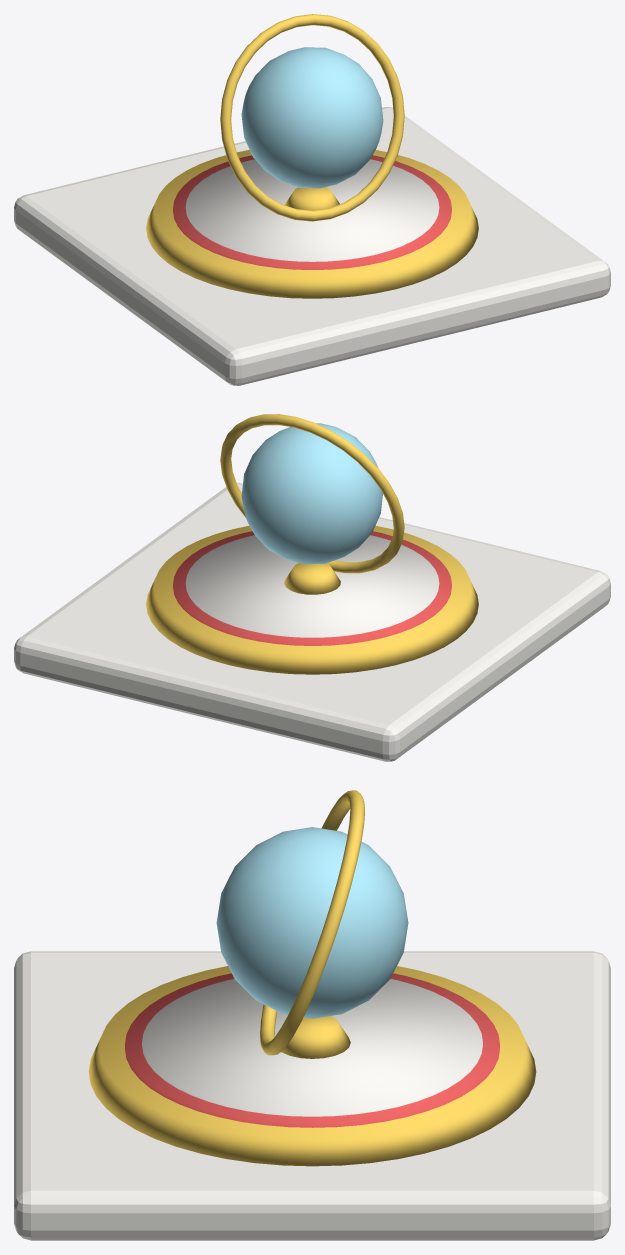
File: Tile_Corner_WorldTour.fbx
The picture shows the model from 3 angles, top to bottom: view 1: azimuth 30°, elevation 25°; view 2: azimuth 150°, elevation 25°; view 3: azimuth 270°, elevation 25°; orthographic projection. The views are drawn at different scales.
Parts seen in each view (by area): view 1: Tile_Corner_WorldTour; view 2: Tile_Corner_WorldTour; view 3: Tile_Corner_WorldTour.
Boxes of the visible parts, bbox=[...] form: Tile_Corner_WorldTour: bbox=[14, 14, 610, 385]; Tile_Corner_WorldTour: bbox=[14, 414, 610, 761]; Tile_Corner_WorldTour: bbox=[14, 790, 610, 1240].
Bounding box in the file's own units: 2.8 × 1.64 × 2.8.
